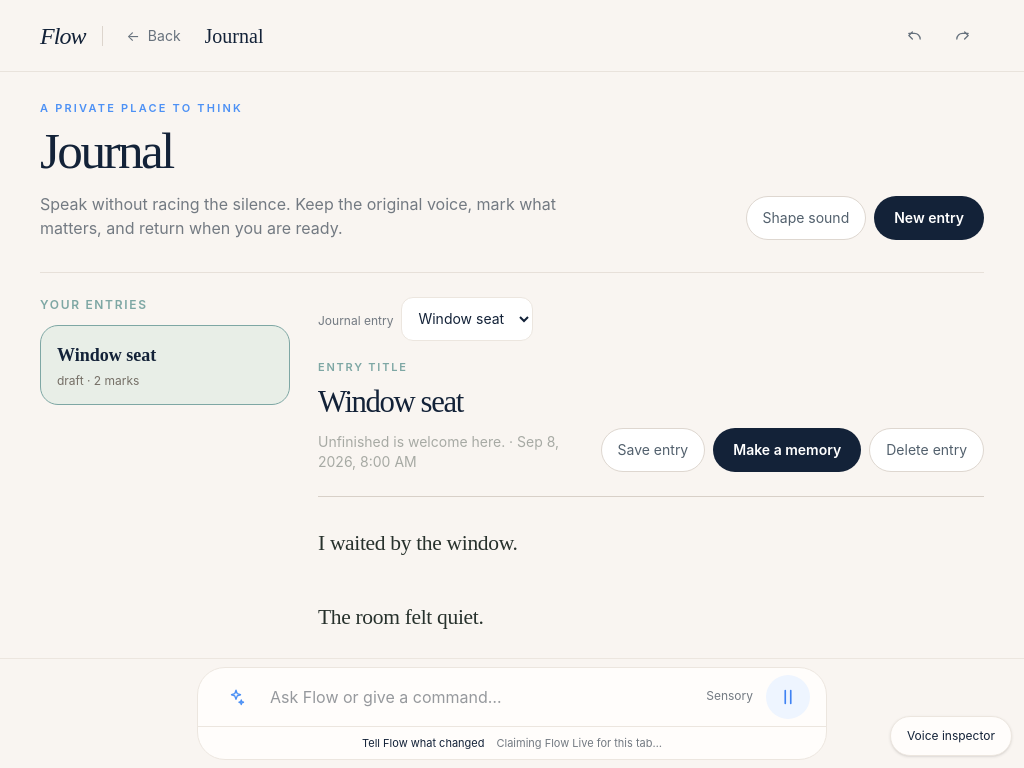
requests the exact original audio bytes only after its typed download continuation
Type "Download the original recording" into the field named "Tell Flow what to change".
click(510, 696); type("Download the original recording")  # box [262,684,758,708]
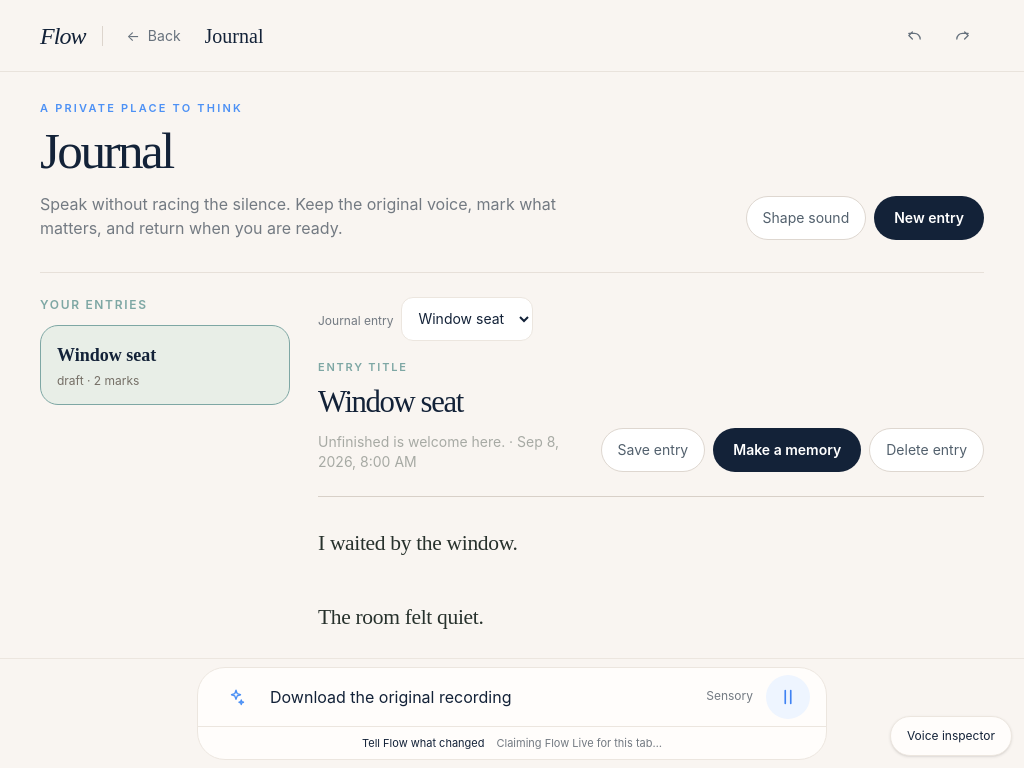
Submit the form named "Tell Flow what to change", box [198,668,826,726]
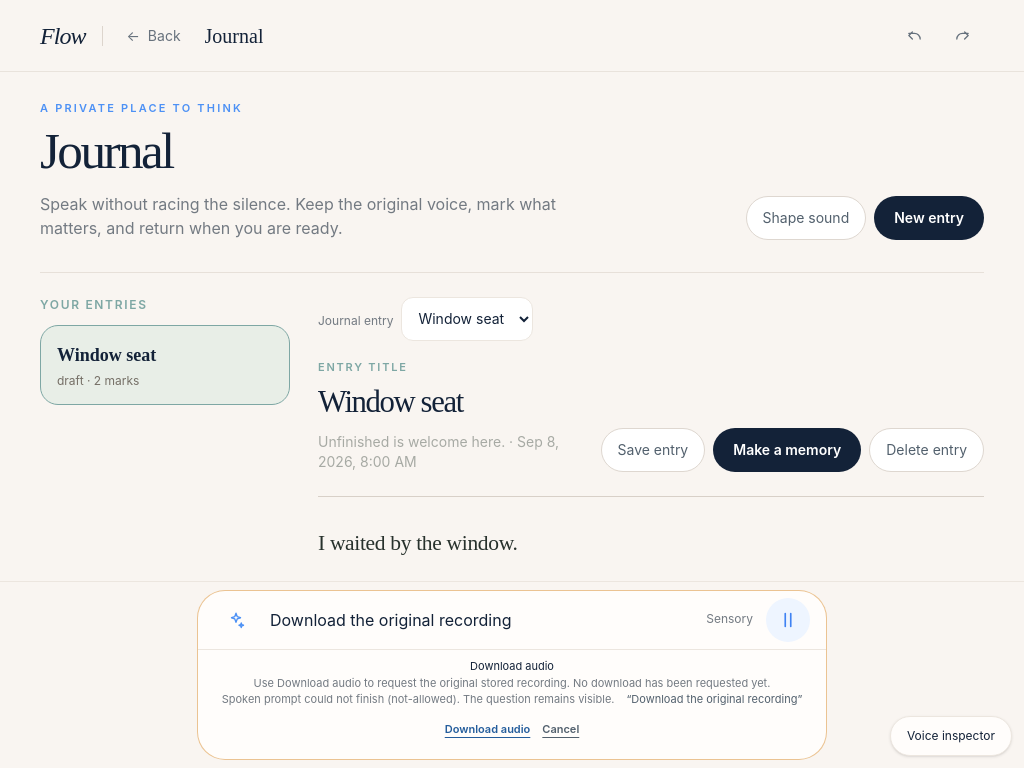
Result: the element named "Global Flow command" has attribute data-last-transcript="Download the original recording" at [197,590,827,760]
Click the button "Download audio".
click(488, 729)  # box [445,707,530,751]
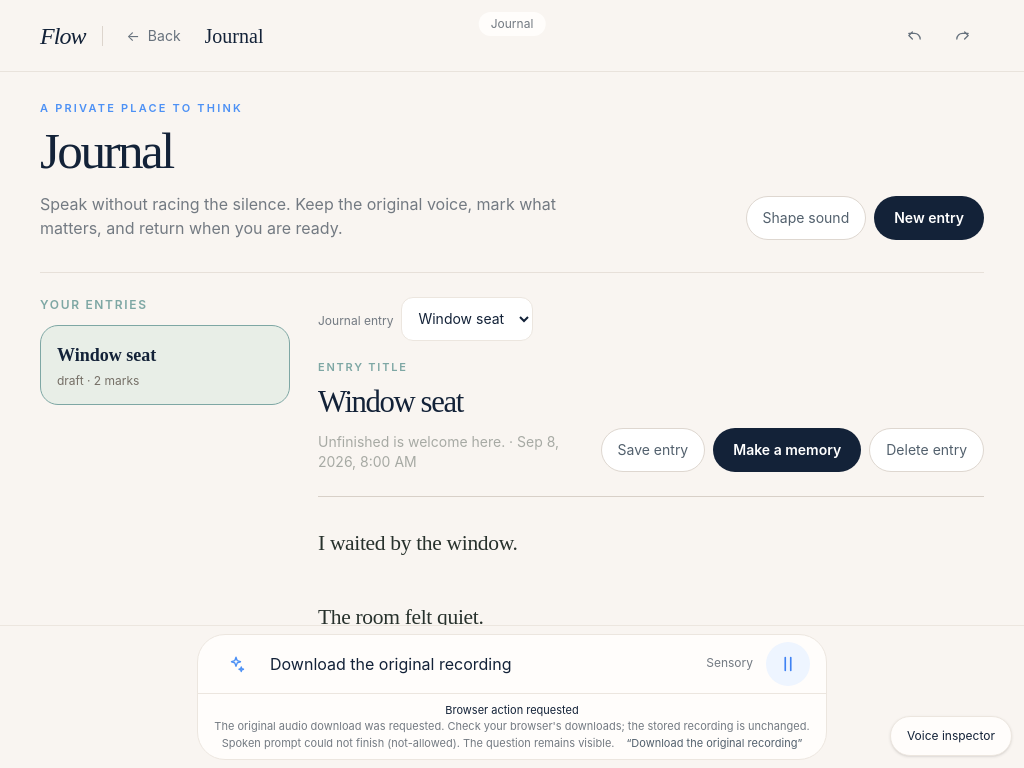
Result: the text "download was requested" is shown at [214,719,810,733]
